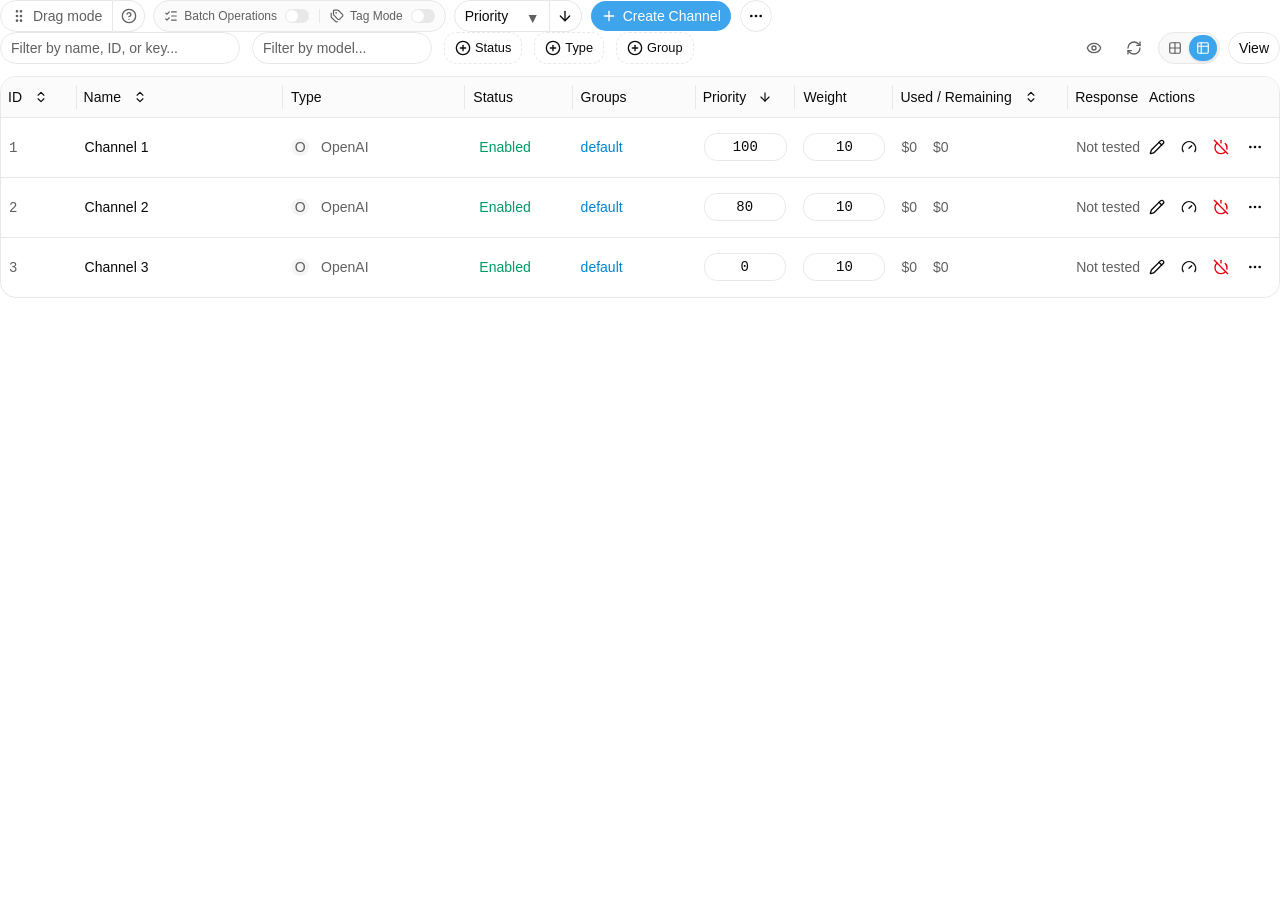
table view opens the matching tutorial without enabling drag mode
This screenshot has width=1280, height=900.
Expected: the button "Drag mode" is shown, [0, 0, 113, 32]
Click the button named "Drag mode help". click: [129, 16]
box: [113, 0, 145, 32]
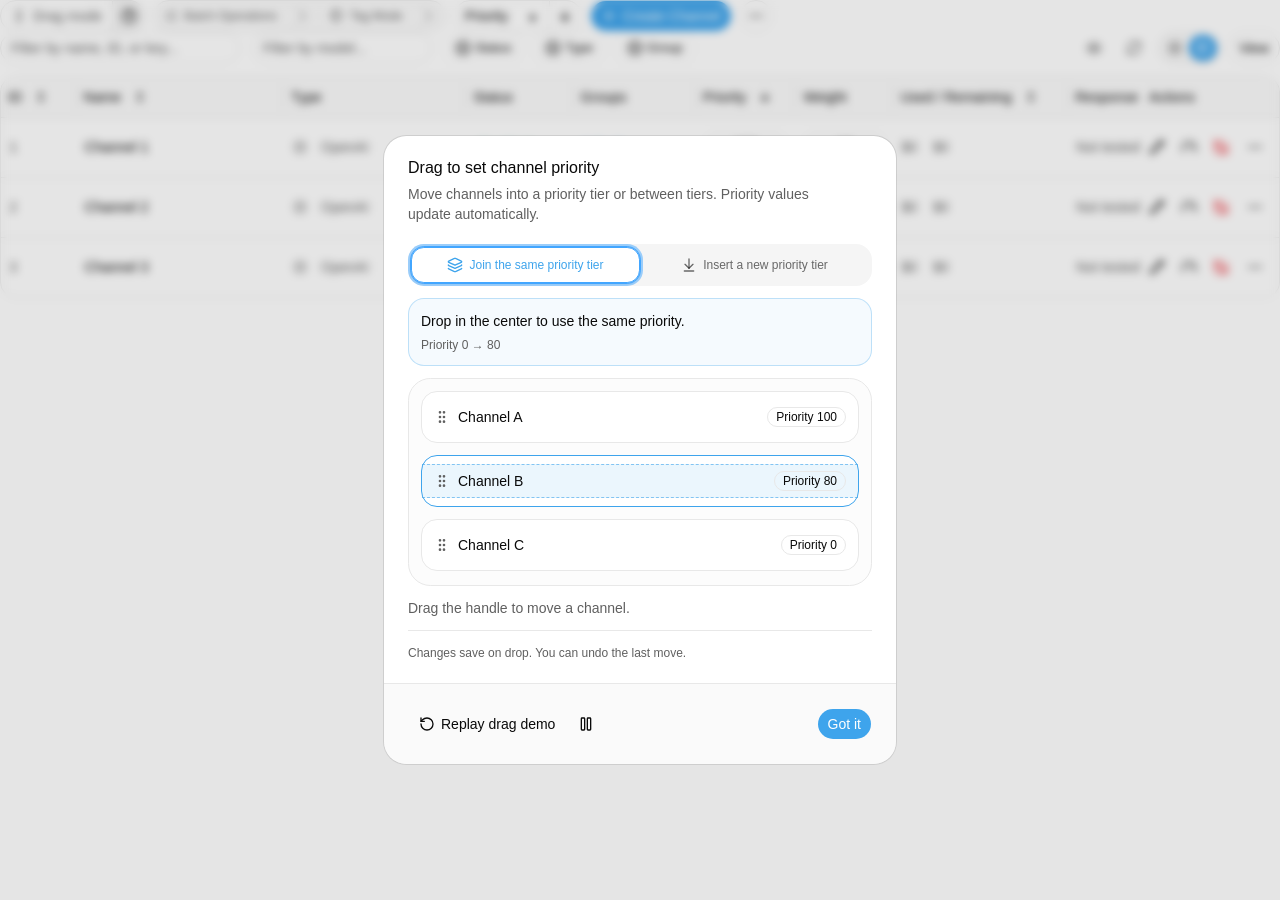
Now the list named "Table view" is shown, box [408, 378, 872, 586]
Click the button "Got it". click: [844, 724]
box: [816, 708, 872, 740]
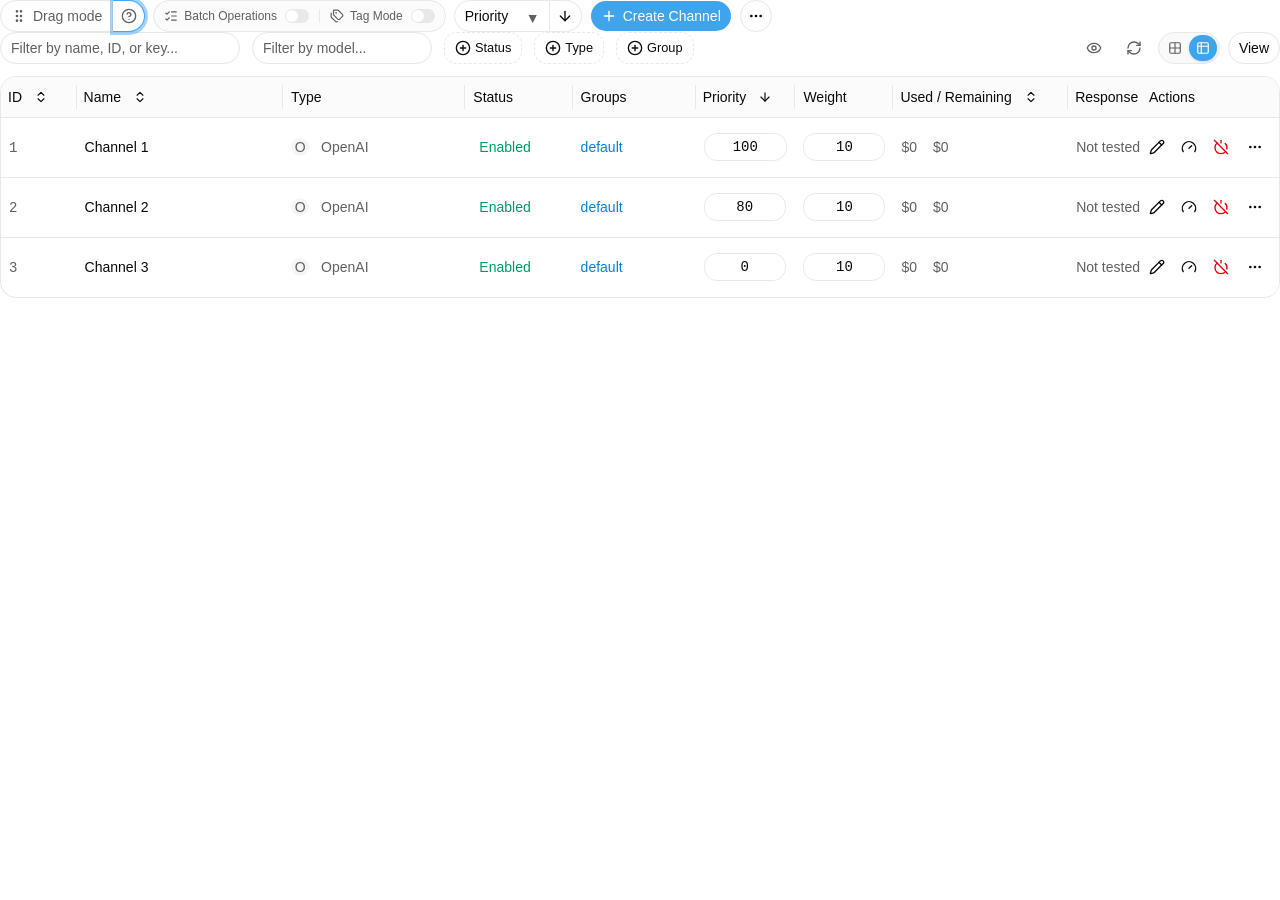
Now the dialog is gone
